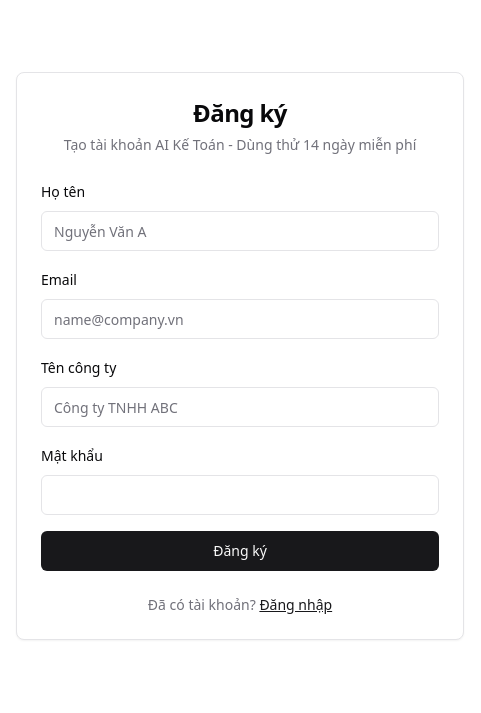
RegisterPage › shows validation error for missing required fields on submit
This screenshot has width=481, height=713.
Click the button "Đăng ký" at coordinates (240, 551), box [41,531,439,571]
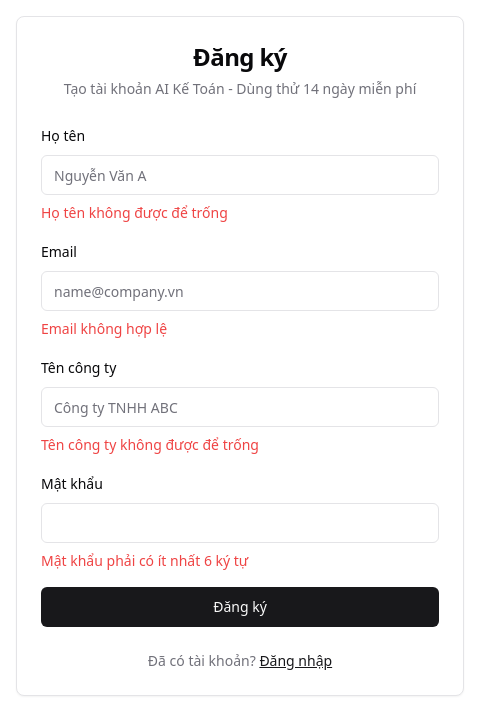
Expected: the text "Họ tên không được để trống" is shown, [41,203,228,222]
